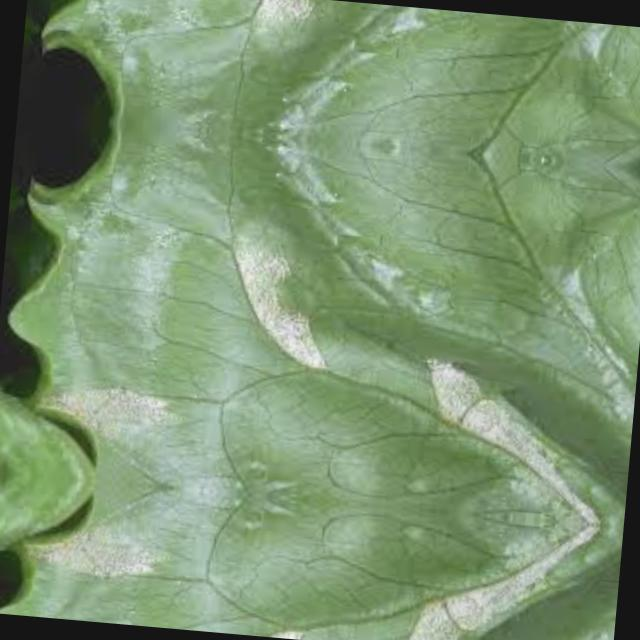Downy_mildew: (43, 126, 638, 524), (31, 477, 608, 640), (75, 0, 640, 159)
